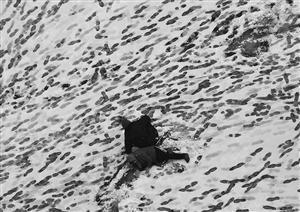Fall-Detected: (111, 110, 187, 169)
